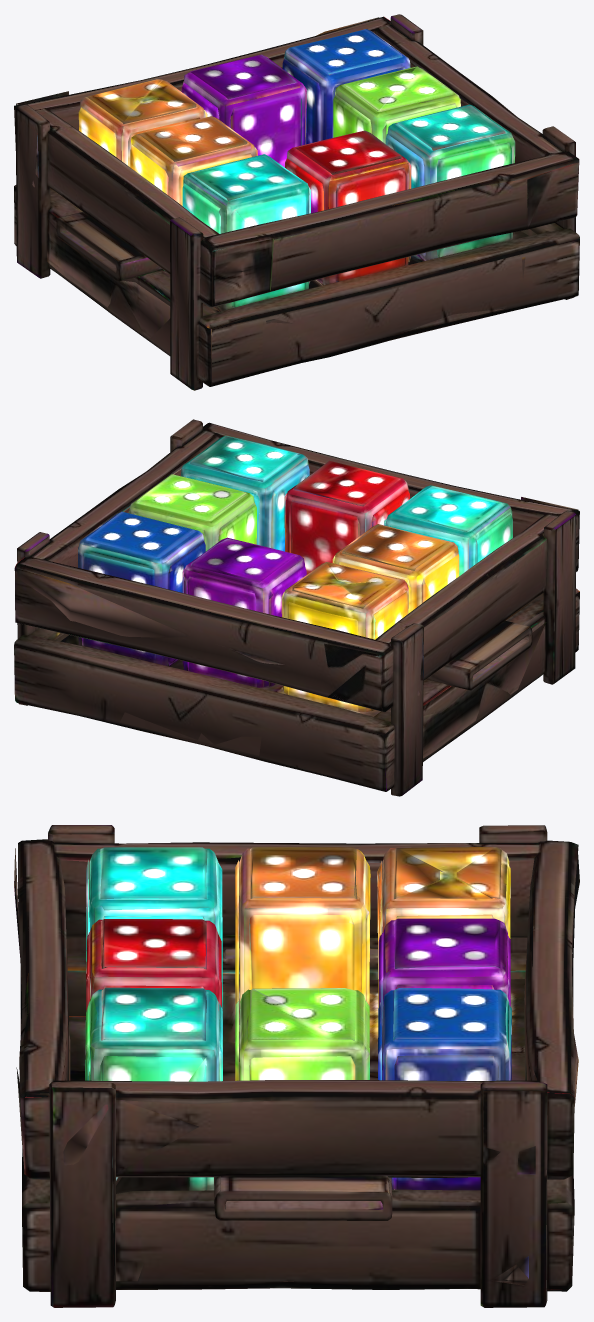
Rendered from fresh_goods.glb.
3 renders of one model, top to bottom at view 1: azimuth 30°, elevation 25°; view 2: azimuth 150°, elevation 25°; view 3: azimuth 270°, elevation 25°, orthographic. The views are drawn at different scales.
Size of the model in its own units: 1 by 0.3877 by 0.8457.
1 material, 1 textured.
